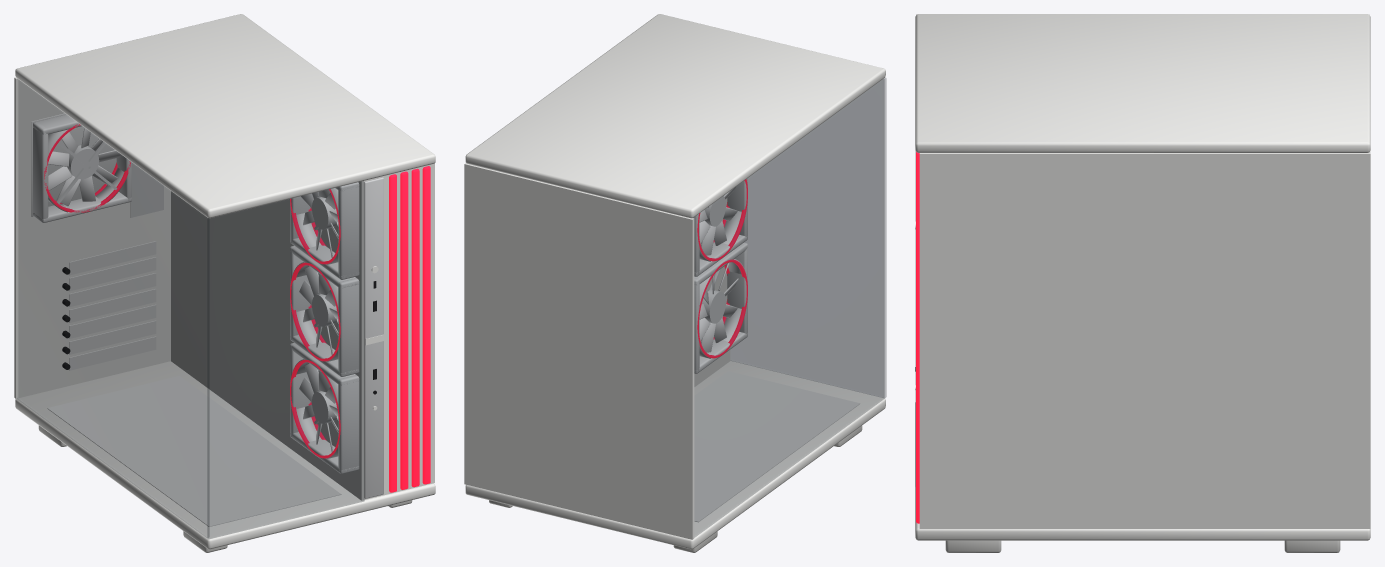
3 renders of one model, left to right at view 1: azimuth 30°, elevation 25°; view 2: azimuth 150°, elevation 25°; view 3: azimuth 270°, elevation 25°, orthographic. The views are drawn at different scales.
Parts seen in each view (by area): view 1: case_lb600lx_body, case_glass_pane.016, case_front_glass_pane.006, fan_frame.022, fan_frame.023, fan_frame.024, fan_frame.021, fan_rotor.024, fan_rotor.023, fan_rotor.022, fan_rotor.021; view 2: case_lb600lx_body, case_glass_pane.016, case_front_glass_pane.006, fan_frame.023, fan_frame.022, fan_rotor.023, fan_rotor.022; view 3: case_lb600lx_body.
Boxes of the visible parts, x1,y1,x2,y2 form: case_lb600lx_body: (14,14,435,552); case_glass_pane.016: (16,79,208,537); case_front_glass_pane.006: (207,181,364,538); fan_frame.022: (290,246,359,376); fan_frame.023: (290,343,359,473); fan_frame.024: (32,114,131,222); fan_frame.021: (290,182,359,279); fan_rotor.024: (48,128,120,206); fan_rotor.023: (299,363,338,452); fan_rotor.022: (299,266,338,355); fan_rotor.021: (300,189,338,257); case_lb600lx_body: (464,14,885,552); case_glass_pane.016: (694,79,884,537); case_front_glass_pane.006: (731,78,886,397); fan_frame.023: (694,242,747,373); fan_frame.022: (693,178,747,276); fan_rotor.023: (699,263,738,352); fan_rotor.022: (699,187,737,255); case_lb600lx_body: (915,14,1370,552).
Size of the model in its own units: 0.305 by 0.455 by 0.45.
